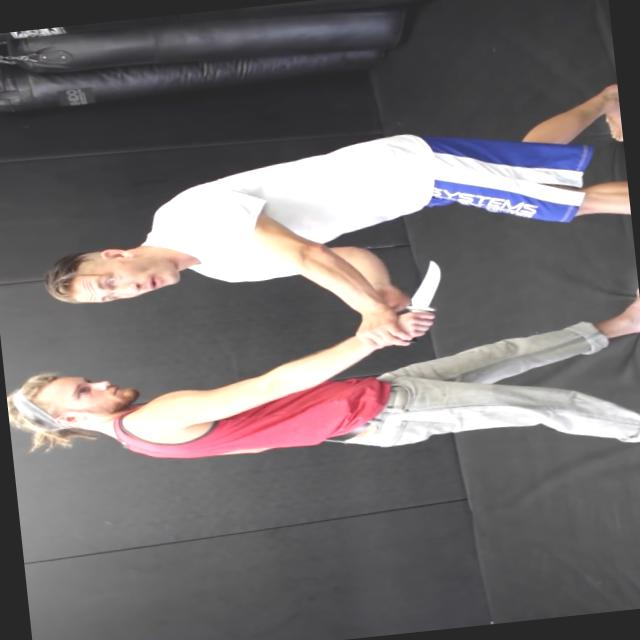knife: (388, 252, 464, 344)
